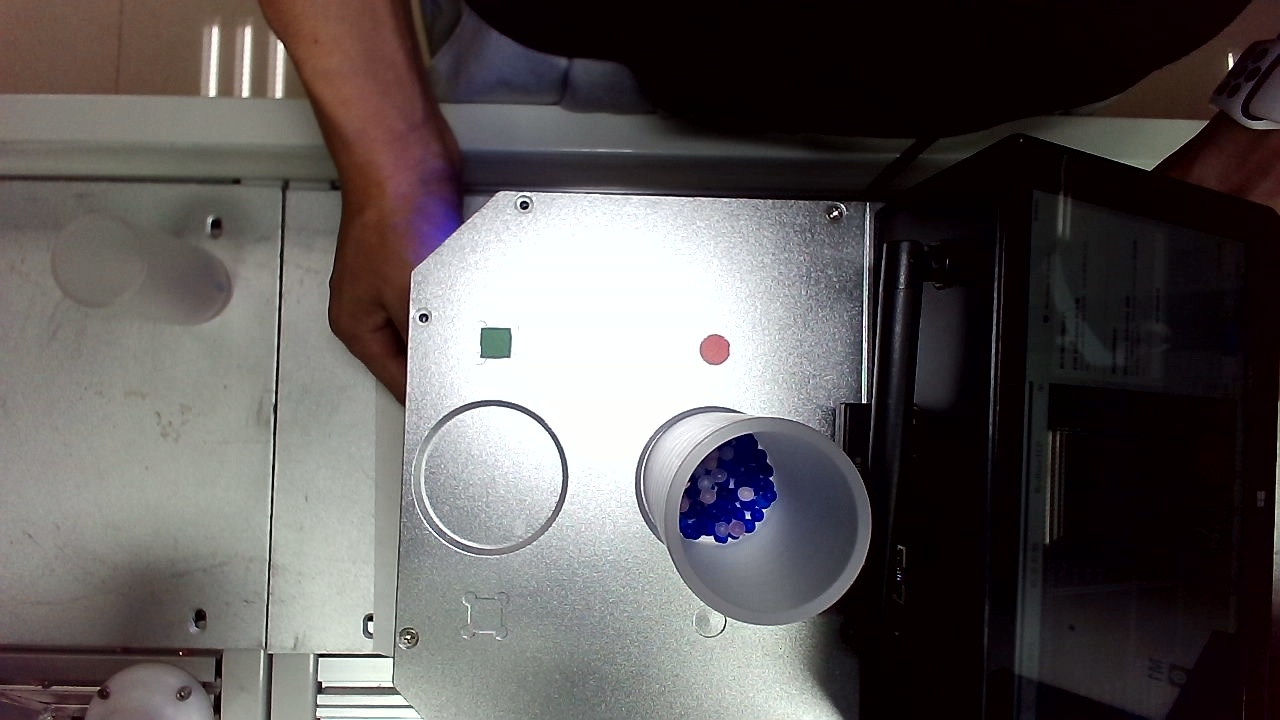bad: (254, 611, 307, 655), (285, 108, 336, 152), (823, 462, 874, 504), (836, 510, 880, 554), (695, 585, 736, 629), (634, 225, 675, 269), (618, 24, 659, 63), (529, 94, 570, 132), (365, 10, 404, 49), (836, 49, 874, 89), (798, 370, 839, 407), (269, 205, 313, 238), (260, 168, 299, 205), (501, 452, 538, 491), (804, 61, 840, 101), (258, 288, 295, 326), (765, 189, 804, 225), (780, 1, 816, 39), (773, 63, 809, 101), (715, 379, 751, 414), (727, 205, 761, 242), (260, 334, 295, 367), (529, 419, 564, 452)
defact: (600, 225, 635, 264)
pass: (551, 391, 596, 443), (576, 140, 615, 190), (261, 526, 304, 569), (818, 545, 863, 585), (263, 408, 306, 449), (287, 568, 330, 609), (825, 165, 866, 207), (515, 391, 554, 435), (435, 393, 476, 434), (659, 81, 698, 122), (579, 367, 614, 412), (674, 42, 712, 83), (799, 498, 838, 537), (566, 609, 604, 649), (853, 556, 895, 592), (683, 214, 719, 255), (809, 422, 848, 458), (788, 451, 822, 489), (715, 234, 746, 273)
toolong: (679, 324, 744, 377), (344, 39, 381, 100), (837, 228, 873, 290)
unpass: (830, 4, 874, 53), (582, 546, 626, 589), (451, 232, 491, 278), (498, 249, 540, 291), (845, 319, 882, 363), (666, 280, 703, 324), (790, 208, 829, 248), (277, 364, 319, 401), (408, 50, 445, 90), (537, 236, 576, 273), (849, 431, 885, 470), (696, 10, 733, 47), (826, 352, 863, 387), (733, 269, 770, 303), (846, 388, 883, 422), (656, 203, 690, 239), (654, 11, 683, 53)
